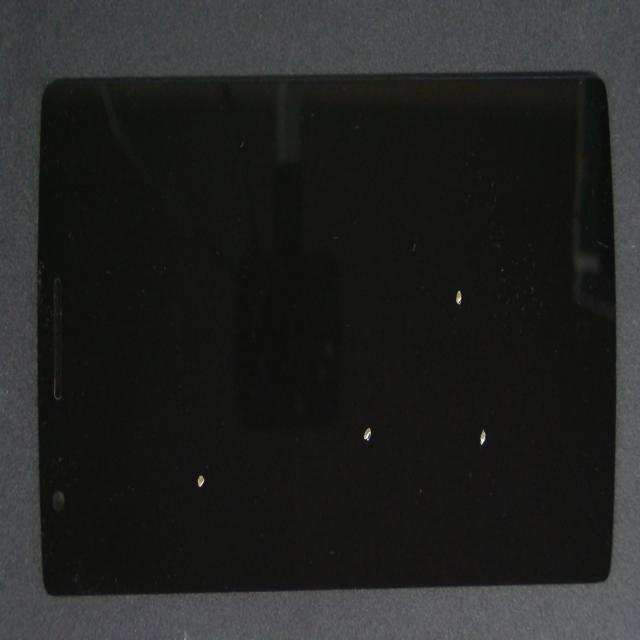stain: (253, 169, 640, 613), (197, 168, 549, 626), (238, 96, 640, 414), (126, 258, 314, 640)
